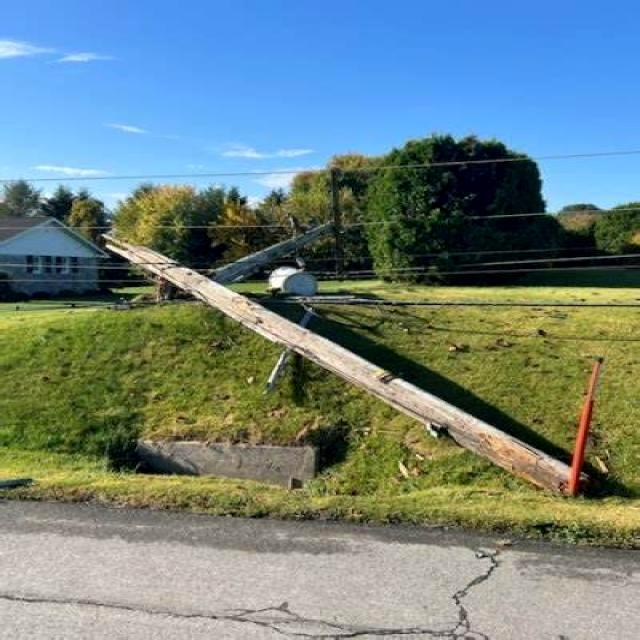Broken Pole: (108, 210, 594, 500)
